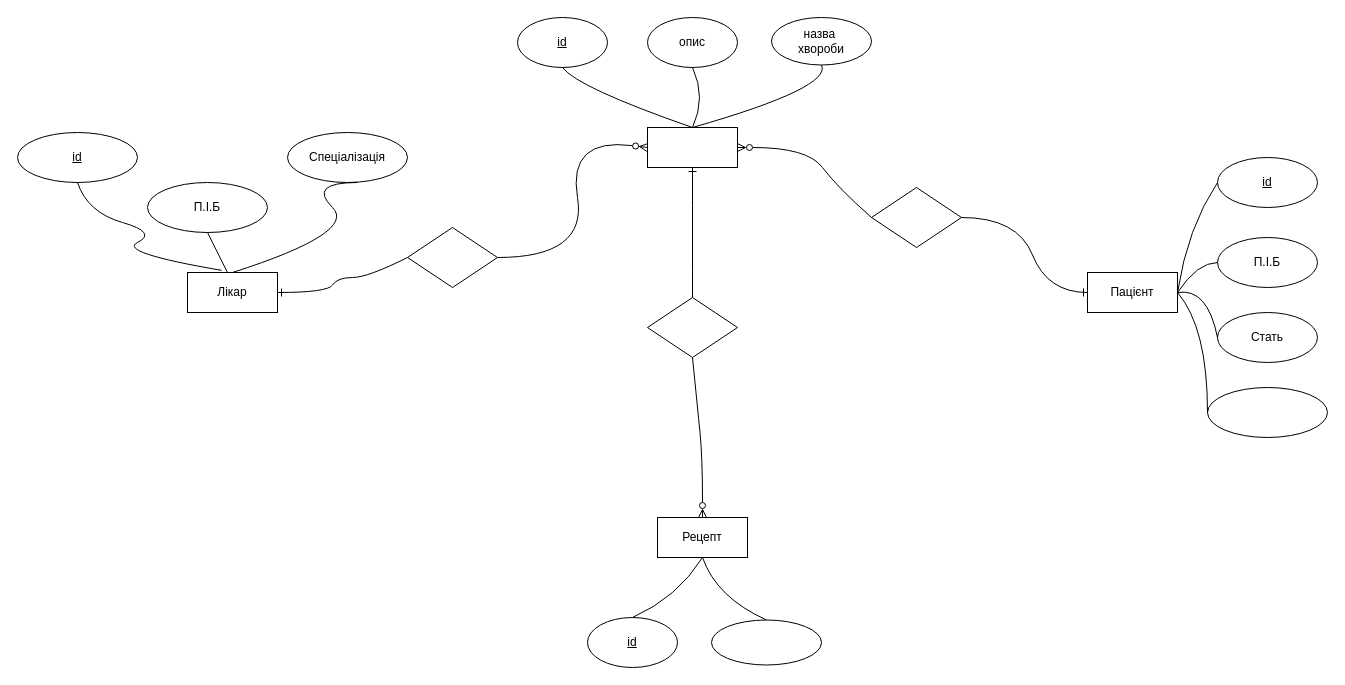
This 1345x685 diagram has some shape labels left out. The shapes that lost their labels are listed below. From the top down, each one's centre as x and y in pixels, then its label:
At (692,147): "Історія хвороби".
At (916,217): "Мають".
At (452,257): "Лікує".
At (692,327): "Виписують".
At (1267,412): "Дата народження".
At (766,642): "назва препарату".
